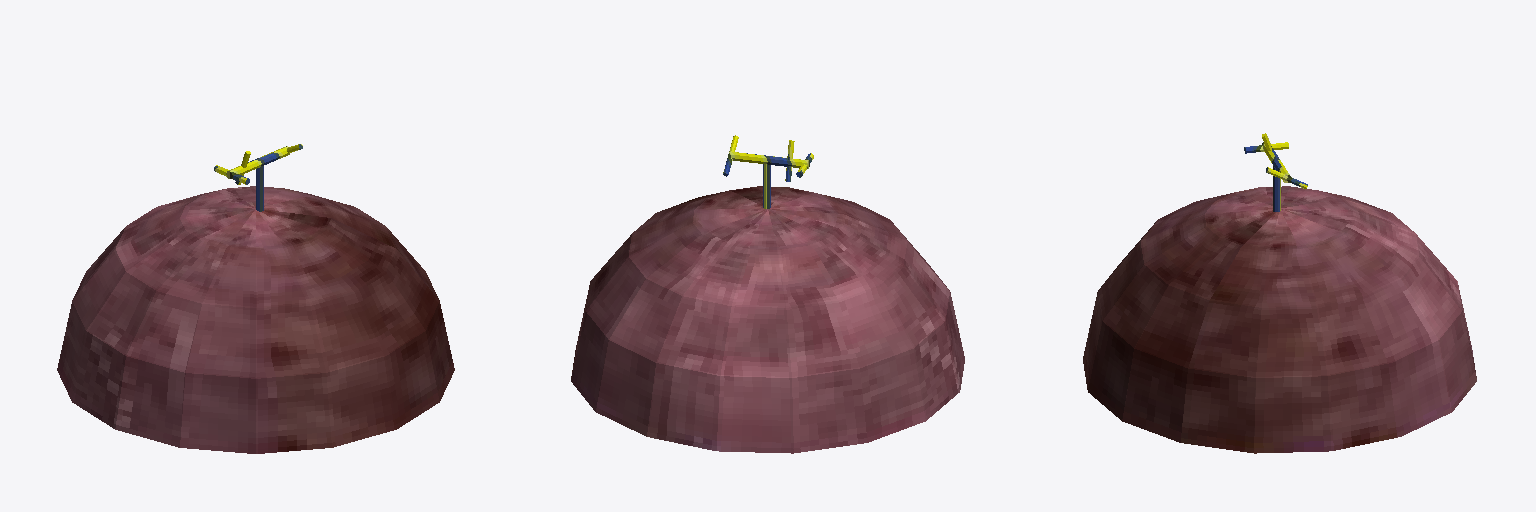
3 views of the same model, side by side, from view 1: azimuth 30°, elevation 25°; view 2: azimuth 150°, elevation 25°; view 3: azimuth 270°, elevation 25° (orthographic).
Parts seen in each view (by area): view 1: ROOT; view 2: ROOT; view 3: ROOT.
Part boxes in pixels (x1,y1,x2,y2): ROOT: (57, 144, 454, 453); ROOT: (571, 135, 964, 453); ROOT: (1083, 133, 1476, 453).
Size of the model in its own units: 1.35 by 0.8621 by 1.35.
Materials: 1 (1 with a texture image).